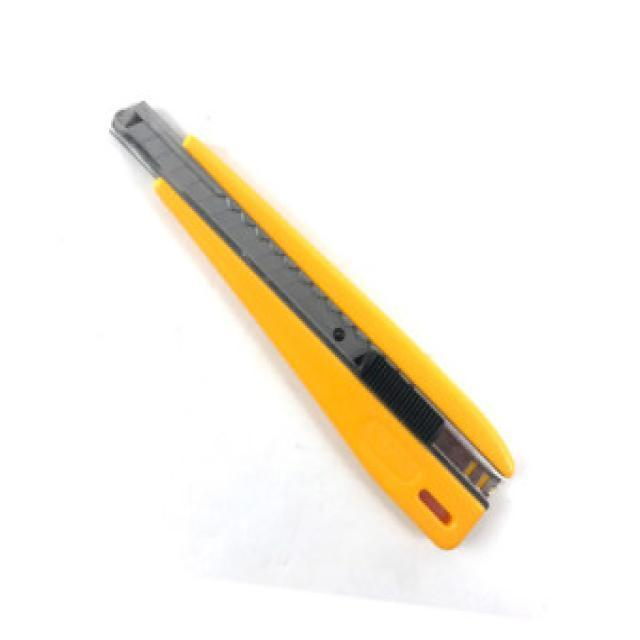cutter: (94, 80, 526, 560)
